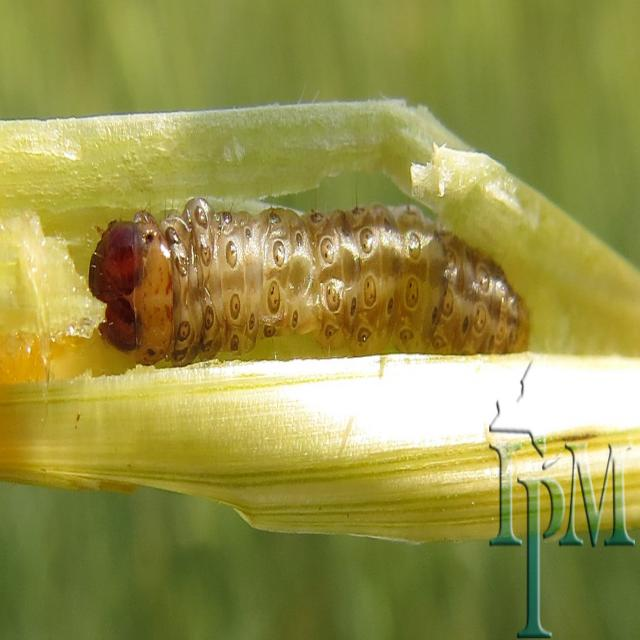cornborer-Larva-: (62, 151, 536, 406)
